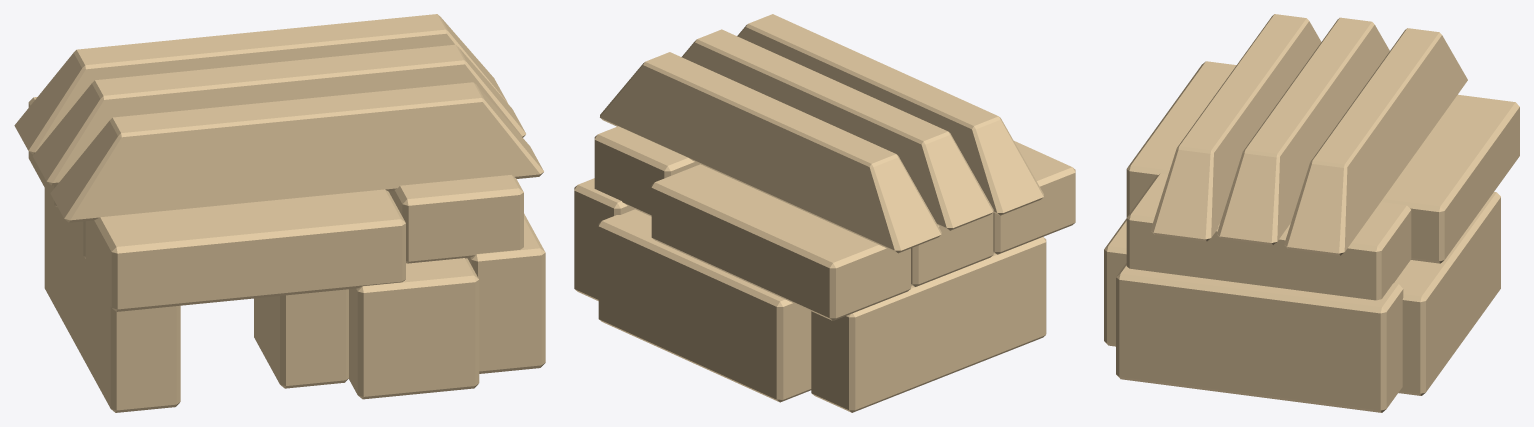
3 views of the same model, side by side, from view 1: azimuth 30°, elevation 25°; view 2: azimuth 150°, elevation 25°; view 3: azimuth 270°, elevation 25° (orthographic). The views are drawn at different scales.
Visible parts, largest first — view 1: CUBE_ROOF.038, CUBE_LON.115, CUBE_ROOF.040, CUBE_SMOL.025, CUBE_ROOF.018, CUBE_LON.055, CUBE_LON.114, CUBE_LON.058, CUBE_SMOL.024; view 2: CUBE_ROOF.018, CUBE_LON.055, CUBE_LON.056, CUBE_LON.059, CUBE_ROOF.040, CUBE_ROOF.038, CUBE_LON.114, CUBE_LON.115, CUBE_LON.060, CUBE_LON.058; view 3: CUBE_LON.058, CUBE_ROOF.018, CUBE_ROOF.040, CUBE_LON.114, CUBE_ROOF.038, CUBE_LON.059, CUBE_LON.056, CUBE_LON.115, CUBE_SMOL.025.
Part boxes in pixels (x1=…): CUBE_ROOF.038: x1=50, y1=82, x2=543, y2=222; CUBE_LON.115: x1=85, y1=189, x2=405, y2=311; CUBE_ROOF.040: x1=32, y1=44, x2=525, y2=185; CUBE_SMOL.025: x1=348, y1=258, x2=479, y2=399; CUBE_ROOF.018: x1=14, y1=14, x2=507, y2=154; CUBE_LON.055: x1=44, y1=188, x2=180, y2=412; CUBE_LON.114: x1=389, y1=175, x2=523, y2=263; CUBE_LON.058: x1=467, y1=213, x2=545, y2=373; CUBE_SMOL.024: x1=254, y1=289, x2=348, y2=388; CUBE_ROOF.018: x1=600, y1=52, x2=941, y2=253; CUBE_LON.055: x1=811, y1=237, x2=1046, y2=412; CUBE_LON.056: x1=598, y1=209, x2=811, y2=402; CUBE_LON.059: x1=651, y1=164, x2=911, y2=320; CUBE_ROOF.040: x1=681, y1=29, x2=993, y2=230; CUBE_ROOF.038: x1=737, y1=14, x2=1043, y2=215; CUBE_LON.114: x1=594, y1=126, x2=699, y2=216; CUBE_LON.115: x1=993, y1=141, x2=1075, y2=254; CUBE_LON.060: x1=911, y1=212, x2=993, y2=286; CUBE_LON.058: x1=574, y1=178, x2=634, y2=300; CUBE_LON.058: x1=1116, y1=263, x2=1403, y2=412; CUBE_ROOF.018: x1=1284, y1=28, x2=1467, y2=255; CUBE_ROOF.040: x1=1217, y1=17, x2=1389, y2=245; CUBE_LON.114: x1=1126, y1=173, x2=1411, y2=300; CUBE_ROOF.038: x1=1150, y1=14, x2=1321, y2=241; CUBE_LON.059: x1=1381, y1=94, x2=1519, y2=263; CUBE_LON.056: x1=1394, y1=192, x2=1500, y2=395; CUBE_LON.115: x1=1126, y1=61, x2=1236, y2=217; CUBE_SMOL.025: x1=1104, y1=218, x2=1126, y2=346.
Size of the model in its own units: 15.86 by 8.49 by 13.82.
